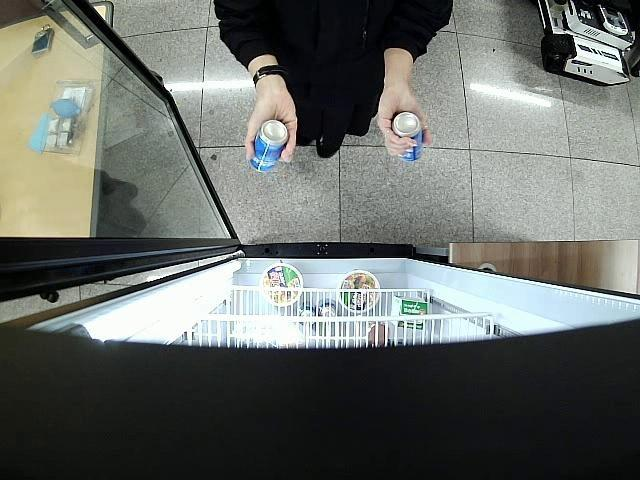15_letsbe: (252, 120, 288, 172), (392, 110, 425, 160)
